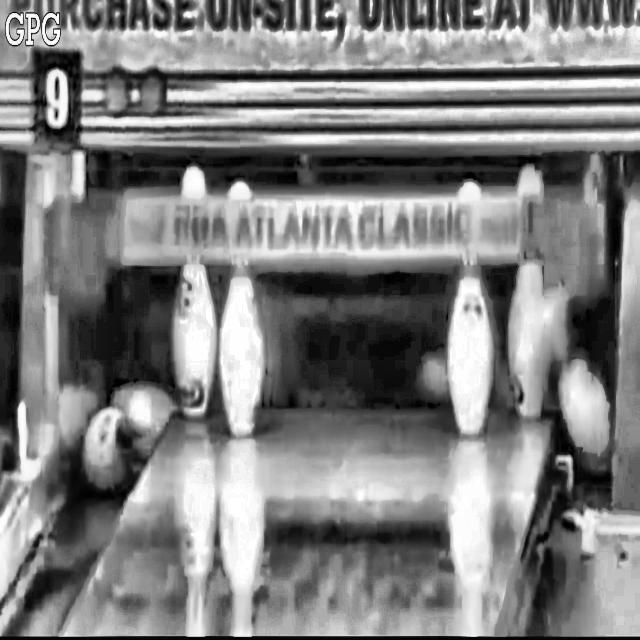bowling-pins: (448, 264, 494, 435), (219, 263, 264, 436), (172, 255, 217, 418), (509, 260, 546, 419), (519, 165, 544, 216), (225, 179, 252, 225)
sweep board: (123, 188, 522, 265)
